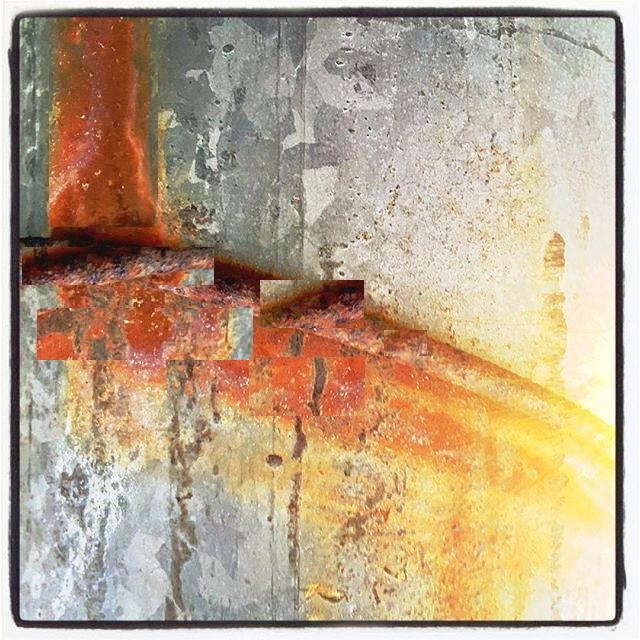Corrosion: (309, 316, 612, 447), (49, 16, 150, 225), (35, 282, 250, 362), (247, 328, 365, 419), (21, 244, 213, 284), (261, 280, 364, 326), (169, 276, 258, 307)
